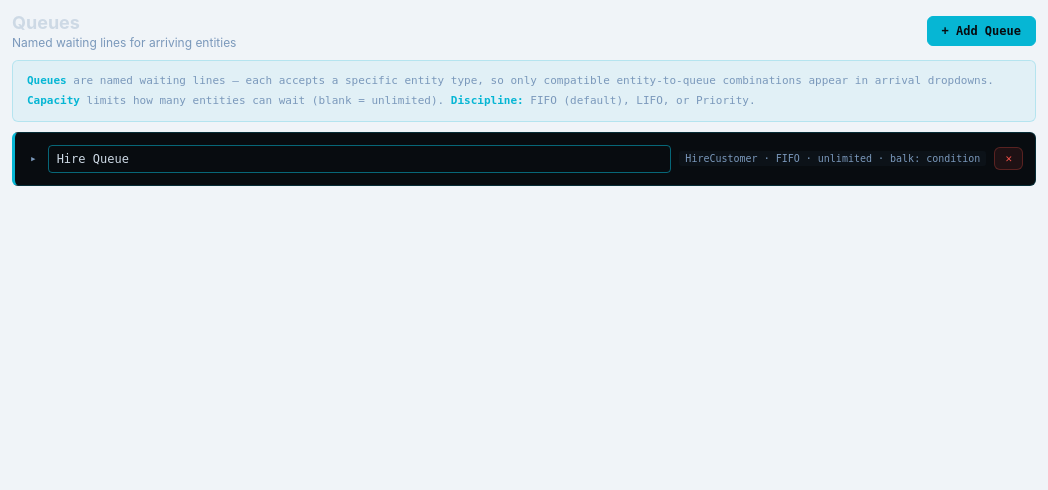
Scenario: QueueEditor › offers container tokens (e.g. "current level") in the condition-based balking variable picker
Click the button named "Expand": click(33, 159) [27,151,40,166]
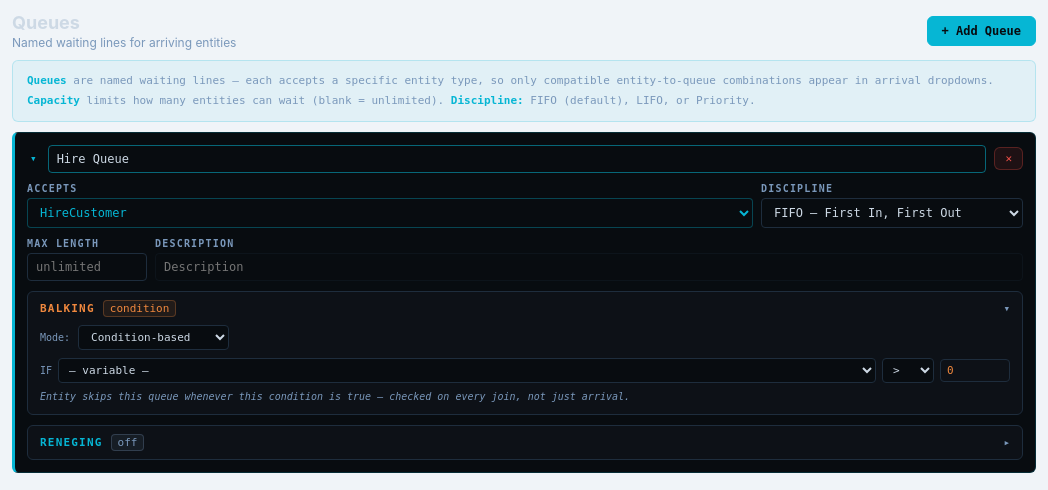
Expected: the 4th dropdown showing "— variable —" is shown, [58,358,876,383]
